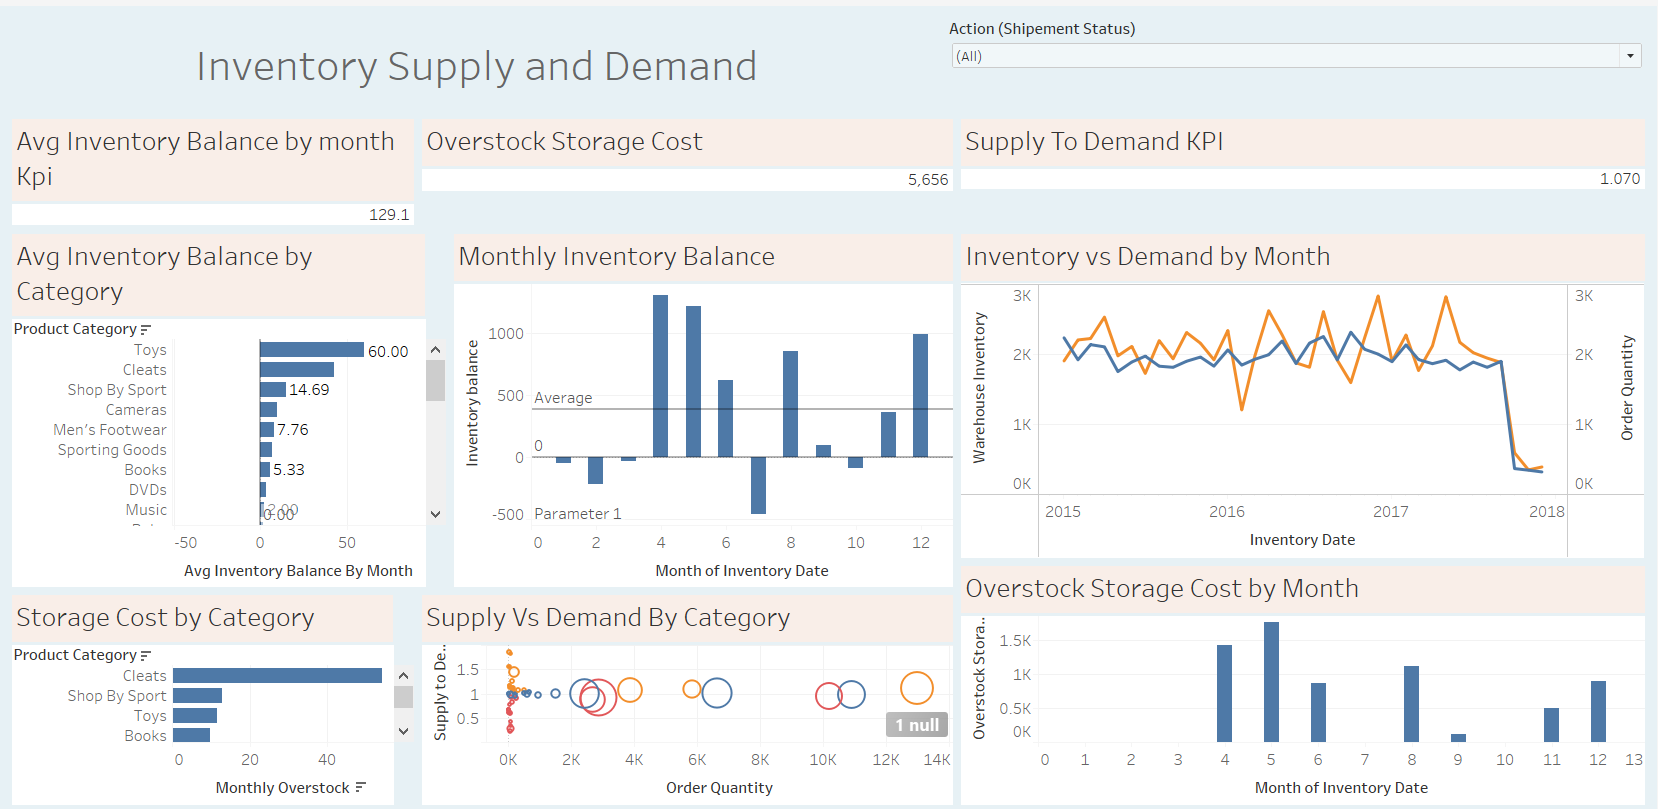

Layout of this report page (visuals, bound fields, positions):
{"tool":"tableau","page":{"name":"Inventory Dashboard","canvas":[1000,1000],"units":"permille","ordinal":0},"visuals":[{"type":"text","box":[4.8,10,565.6,124.8]},{"type":"filter","title":"Inventory vs Demand by Month","param":"[federated.1m90vc510br5b71bjo0t40io5idu].[Action (Shipement Status)]","box":[570.4,10,424.8,124.8]},{"type":"worksheet","title":"Avg Inventory Balance by month Kpi","mark":"Automatic","box":[4.8,134.8,247.6,141.1]},{"type":"worksheet","title":"Overstock Storage Cost","mark":"Automatic","box":[252.4,134.8,325.2,141.1]},{"type":"worksheet","title":"Supply To Demand KPI","mark":"Automatic","box":[577.6,134.8,417.6,97.4]},{"type":"worksheet","title":"Avg Inventory Balance by Category","mark":"Automatic","rows":["Product Category"],"cols":["Calculation_1064256940754071557"],"box":[4.8,275.9,266.8,445.7]},{"type":"worksheet","title":"Monthly Inventory Balance ","mark":"Bar","rows":["Calculation_1064256940744794116"],"cols":["Calculation_1064256940744564739"],"box":[271.6,275.9,305.9,445.7]},{"type":"worksheet","title":"Inventory vs Demand by Month","mark":"Automatic","rows":["Warehouse Inventory ","Order Quantity"],"cols":["Calculation_1064256940744564739"],"box":[577.6,275.9,417.6,409.5]},{"type":"worksheet","title":"Overstock Storage Cost by Month","mark":"Bar","rows":["Calculation_674132624078872579"],"cols":["Calculation_1064256940744564739"],"box":[577.6,685.4,417.6,304.6]},{"type":"worksheet","title":"Storage Cost by Category","mark":"Automatic","rows":["Product Category"],"cols":["Calculation_674132624080465924"],"box":[4.8,721.6,247.6,268.4]},{"type":"worksheet","title":"Supply Vs Demand By Category","mark":"Automatic","rows":["Calculation_674132624081936389"],"cols":["Order Quantity"],"box":[252.4,721.6,325.2,268.4]}]}

Visuals, with their boxes on the dashboard's canvas, which has no fixed pixel size, in thousandths of its width and height (x1, y1, x2, y2). These are canvas units, not pixel positions in the 1658x809 screenshot, which may show the page scaled, cropped or inside an application window:
text: locate(5, 10, 570, 135)
"Inventory vs Demand by Month" filter: locate(570, 10, 995, 135)
"Avg Inventory Balance by month Kpi" worksheet: locate(5, 135, 252, 276)
"Overstock Storage Cost" worksheet: locate(252, 135, 578, 276)
"Supply To Demand KPI" worksheet: locate(578, 135, 995, 232)
"Avg Inventory Balance by Category" worksheet: locate(5, 276, 272, 722)
"Monthly Inventory Balance " worksheet (Bar marks): locate(272, 276, 578, 722)
"Inventory vs Demand by Month" worksheet: locate(578, 276, 995, 685)
"Overstock Storage Cost by Month" worksheet (Bar marks): locate(578, 685, 995, 990)
"Storage Cost by Category" worksheet: locate(5, 722, 252, 990)
"Supply Vs Demand By Category" worksheet: locate(252, 722, 578, 990)
